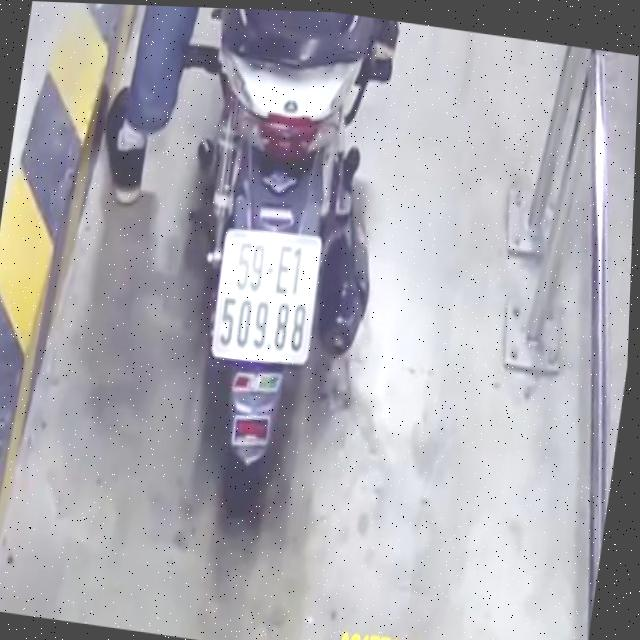motorcycle: (132, 6, 420, 555)
plate: (197, 215, 328, 375)
